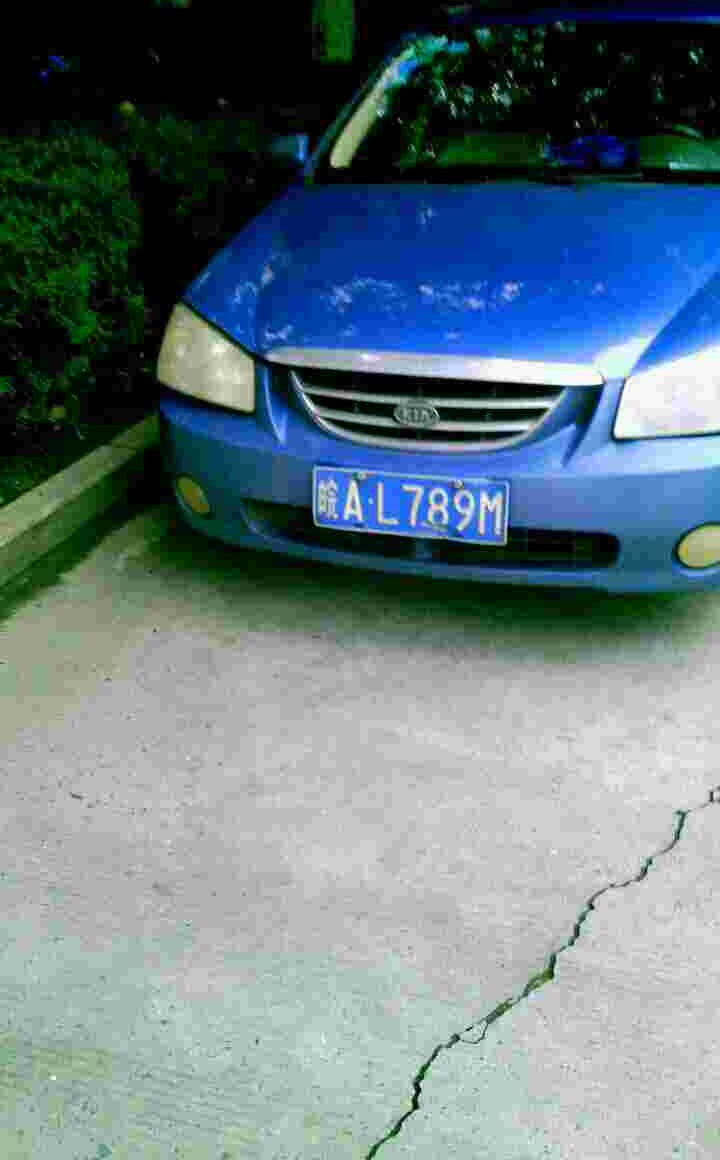license_plate: (307, 451, 518, 547)
